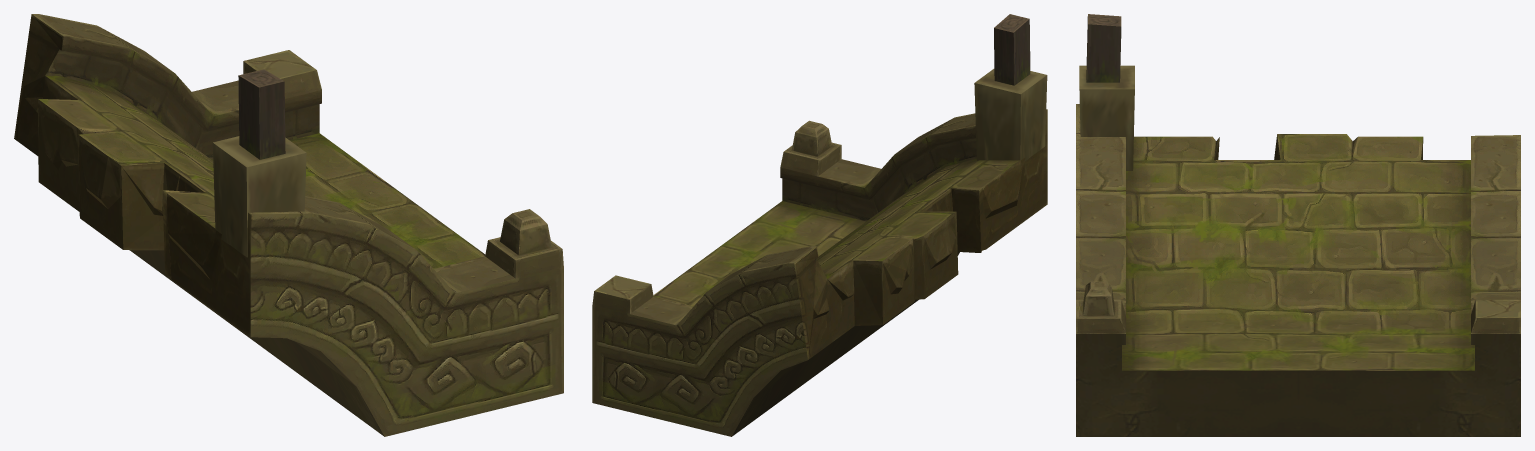
Rendered from stone_bridge_destroyed_03.fbx.
3 views of the same model, side by side, from view 1: azimuth 30°, elevation 25°; view 2: azimuth 150°, elevation 25°; view 3: azimuth 270°, elevation 25° (orthographic). The views are drawn at different scales.
Parts seen in each view (by area): view 1: obj3.003; view 2: obj3.003; view 3: obj3.003.
Boxes of the visible parts, box(x1,y1,x2,y2) form: obj3.003: box(14, 14, 563, 436); obj3.003: box(592, 14, 1047, 436); obj3.003: box(1076, 14, 1520, 436).
Bounding box in the file's own units: 4.15 × 4.53 × 6.
